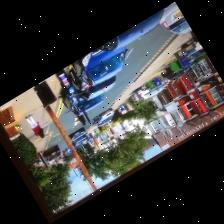person: (25, 114, 44, 136), (76, 114, 85, 124)
